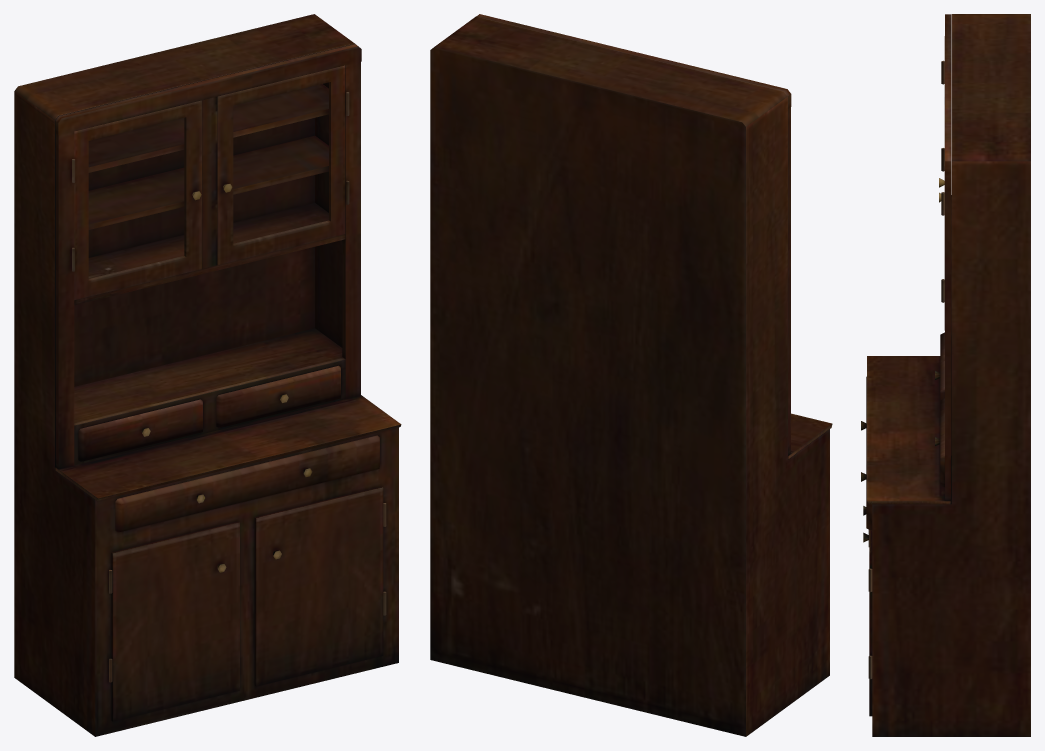
File: si-kommode-2.glb
3 renders of one model, left to right at view 1: azimuth 30°, elevation 25°; view 2: azimuth 150°, elevation 25°; view 3: azimuth 270°, elevation 25°, orthographic. The views are drawn at different scales.
Parts seen in each view (by area): view 1: si-kommode-2; view 2: si-kommode-2; view 3: si-kommode-2.
Part boxes in pixels (x1,y1,x2,y2): si-kommode-2: (14,14,401,736); si-kommode-2: (430,14,832,736); si-kommode-2: (861,14,1030,736).
Size of the model in its own units: 0.8001 by 1.49 by 0.395.
1 material, 1 textured.
